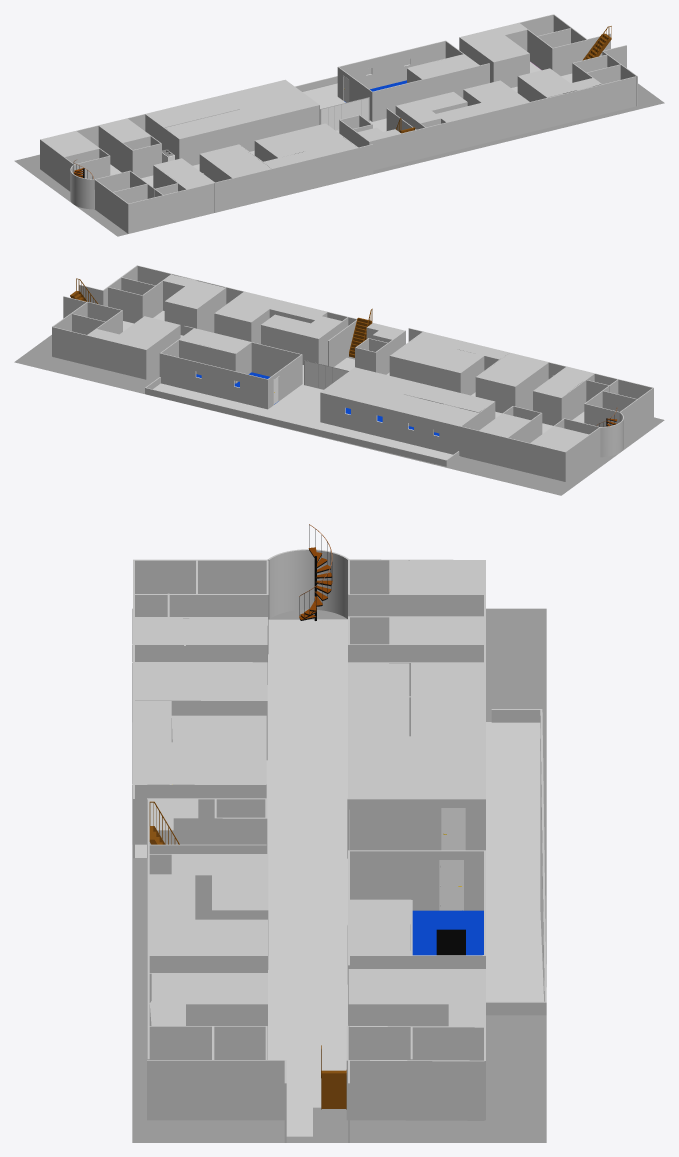
The model's file is a block.obj.
3 views of the same model, one above another, from view 1: azimuth 30°, elevation 25°; view 2: azimuth 150°, elevation 25°; view 3: azimuth 270°, elevation 25° (orthographic). The views are drawn at different scales.
Parts seen in each view (by area): view 1: wall_34_203, wall_115_677, room_132_746, ground_1, wall_71_419, wall_47_275, wall_45_263, wall_118_695, wall_105_617, room_137_754, room_131_744, room_147_772 (+45 smaller); view 2: ground_1, wall_27_160, room_161_796, room_132_746, wall_47_274, wall_1_4, wall_121_712, wall_91_538, room_137_754, room_147_772, room_131_744, wall_86_508 (+49 smaller); view 3: room_125_734, ground_1, room_161_796, room_132_746, wall_89_526, wall_76_448, wall_44_256, wall_106_622, room_137_754, room_131_744, wall_88_521, room_147_772 (+40 smaller).
Boxes of the visible parts, x1=… form: wall_34_203: x1=370, y1=98, x2=548, y2=170; wall_115_677: x1=163, y1=161, x2=303, y2=224; room_132_746: x1=146, y1=80, x2=318, y2=126; ground_1: x1=14, y1=83, x2=664, y2=236; wall_71_419: x1=548, y1=76, x2=636, y2=127; wall_47_275: x1=339, y1=41, x2=445, y2=89; wall_45_263: x1=372, y1=71, x2=458, y2=121; wall_118_695: x1=303, y1=148, x2=358, y2=190; wall_105_617: x1=256, y1=105, x2=318, y2=140; room_137_754: x1=201, y1=145, x2=270, y2=178; room_131_744: x1=166, y1=109, x2=255, y2=138; room_147_772: x1=460, y1=29, x2=527, y2=61; ground_1: x1=14, y1=326, x2=664, y2=495; wall_27_160: x1=320, y1=392, x2=460, y2=456; room_161_796: x1=153, y1=383, x2=459, y2=459; room_132_746: x1=322, y1=368, x2=477, y2=425; wall_47_274: x1=159, y1=353, x2=267, y2=409; wall_1_4: x1=478, y1=431, x2=565, y2=481; wall_121_712: x1=145, y1=388, x2=446, y2=466; wall_91_538: x1=52, y1=327, x2=110, y2=370; room_137_754: x1=477, y1=352, x2=548, y2=385; room_147_772: x1=112, y1=317, x2=178, y2=349; room_131_744: x1=404, y1=383, x2=493, y2=412; wall_86_508: x1=110, y1=341, x2=146, y2=379; room_125_734: x1=135, y1=619, x2=347, y2=1136; ground_1: x1=132, y1=608, x2=546, y2=1142; room_161_796: x1=486, y1=722, x2=543, y2=1001; room_132_746: x1=350, y1=663, x2=483, y2=798; wall_89_526: x1=346, y1=1060, x2=484, y2=1120; wall_76_448: x1=147, y1=1060, x2=267, y2=1120; wall_44_256: x1=350, y1=851, x2=483, y2=910; wall_106_622: x1=349, y1=799, x2=485, y2=850; room_137_754: x1=133, y1=662, x2=265, y2=699; room_131_744: x1=348, y1=662, x2=409, y2=736; wall_88_521: x1=348, y1=1026, x2=483, y2=1060; room_147_772: x1=351, y1=969, x2=483, y2=1003.
Bounding box in the file's own units: 4697 × 362 × 1540.
